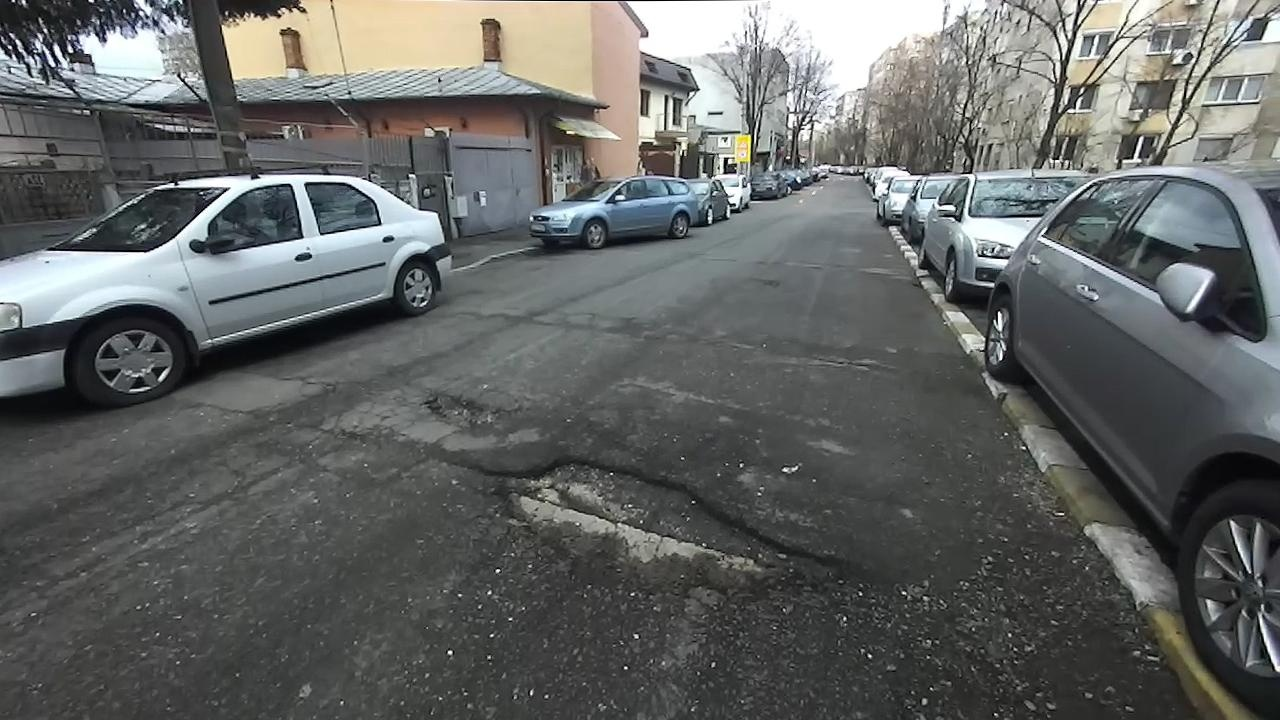pothole: (439, 447, 876, 608), (414, 381, 515, 429), (806, 350, 892, 380)
